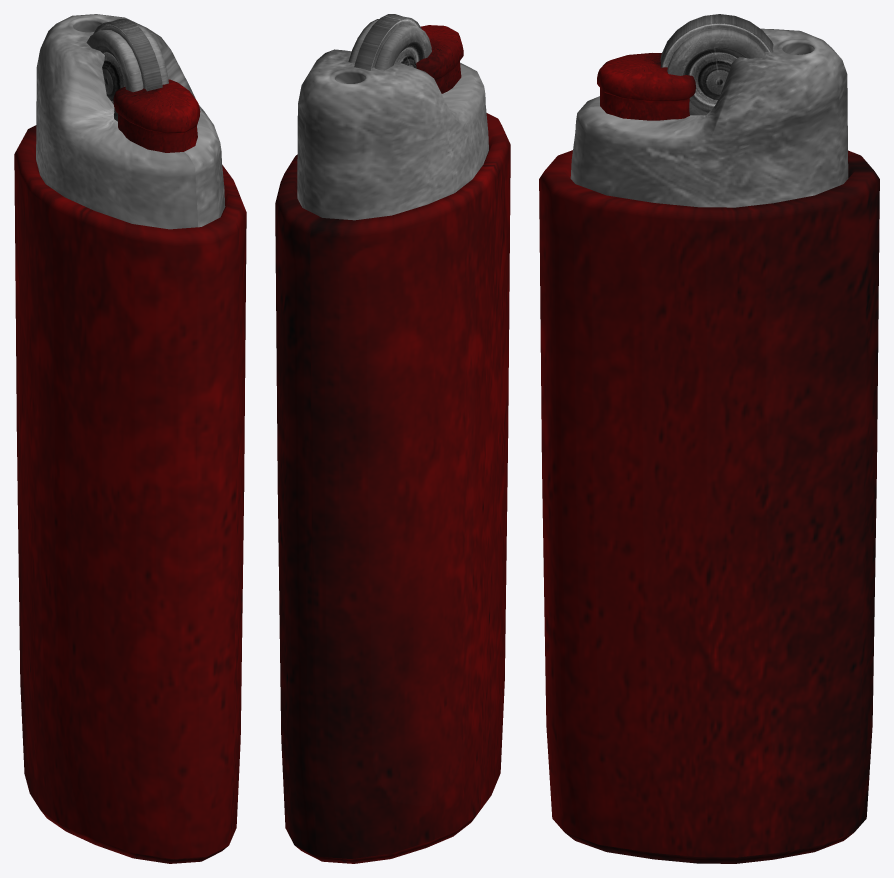
Rendered from Lighter.fbx.
3 renders of one model, left to right at view 1: azimuth 30°, elevation 25°; view 2: azimuth 150°, elevation 25°; view 3: azimuth 270°, elevation 25°, orthographic. The views are drawn at different scales.
Parts seen in each view (by area): view 1: polySurface4; view 2: polySurface4; view 3: polySurface4.
Boxes of the visible parts, box(x1,y1,x2,y2) form: polySurface4: box(14, 14, 246, 863); polySurface4: box(275, 14, 510, 863); polySurface4: box(539, 14, 879, 863).
Size of the model in its own units: 0.4502 by 1.98 by 0.7519.
